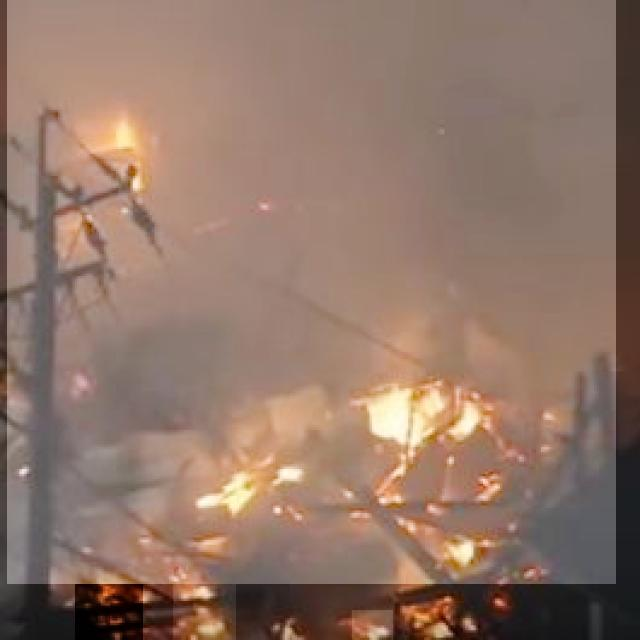Fire: (363, 378, 491, 479), (177, 457, 312, 521), (97, 117, 175, 226), (75, 571, 144, 640), (173, 581, 236, 640), (396, 603, 468, 640), (431, 534, 491, 573), (352, 610, 393, 640)
Smoke: (7, 0, 616, 584)
